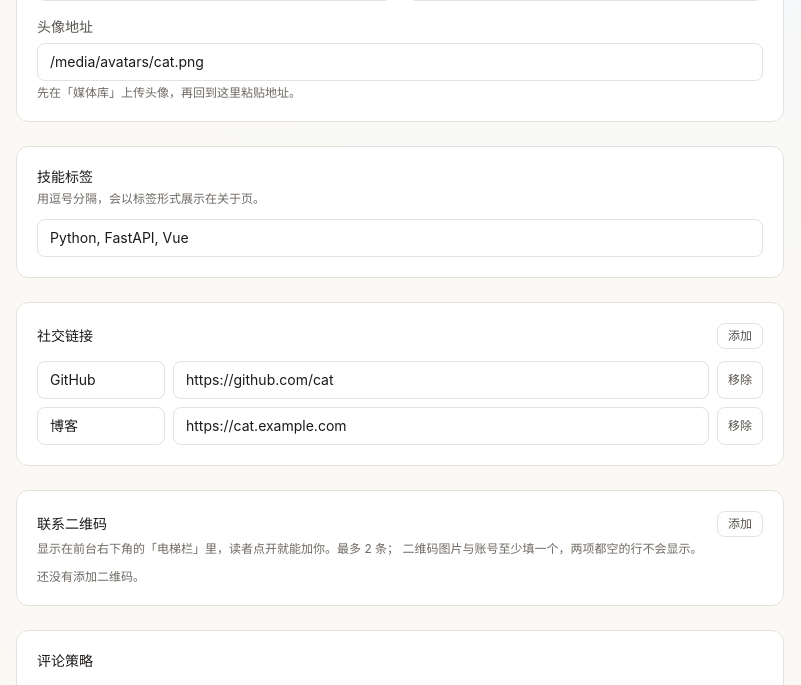
Test: SettingsView · 社交链接增删 › 删光后回到空态文案，重新添加又能出现输入行
The image size is (801, 685).
(page scrolled)
Step 1. Click the 1st button "移除" → (740, 380), box [717,361,763,399]
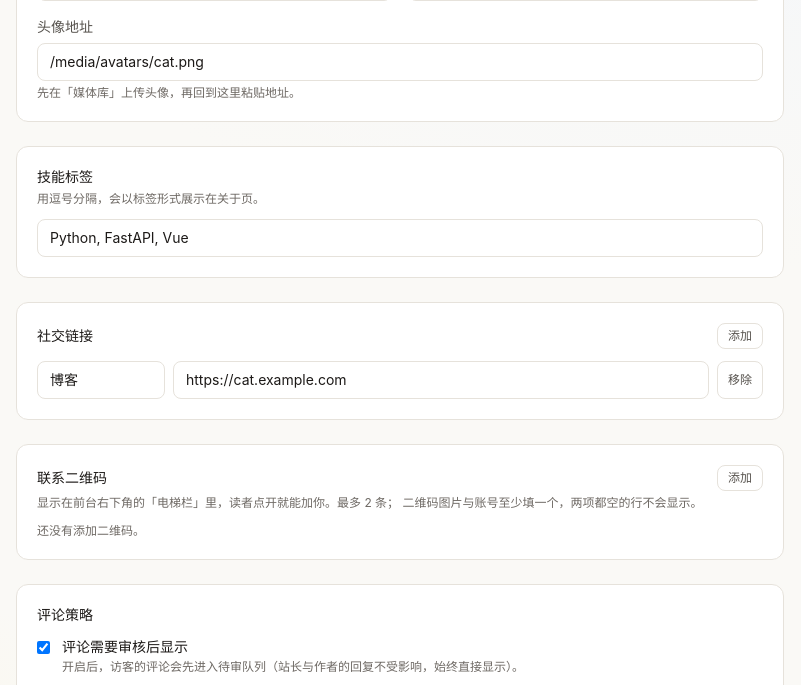
Step 2. Click the button "移除" → (740, 380), box [717,361,763,399]
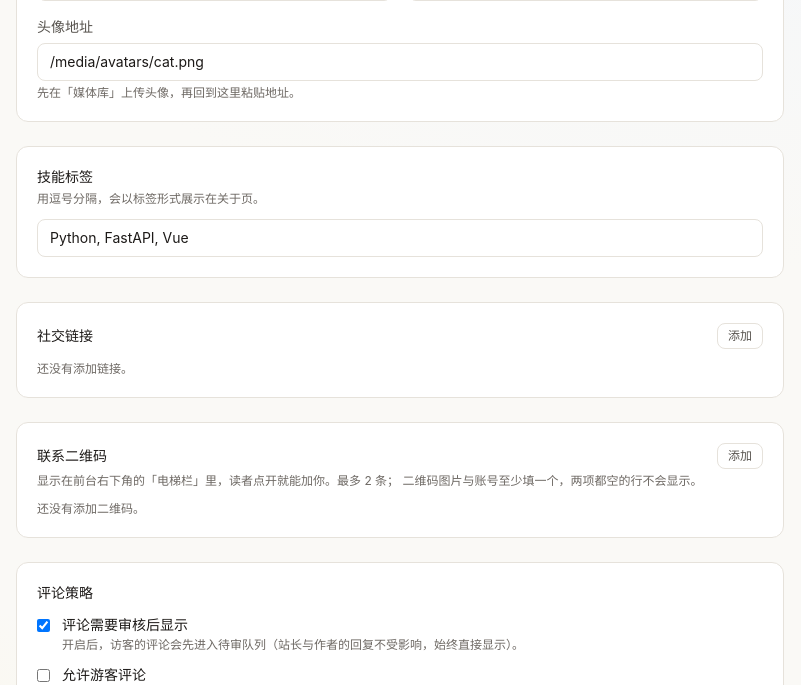
Expected: the element showing "社交链接 添加 还没有添加链接。" is shown, [16,302,784,398]
Step 3. Click the button "添加" in the row of "社交链接" → (740, 336), box [717,323,763,349]
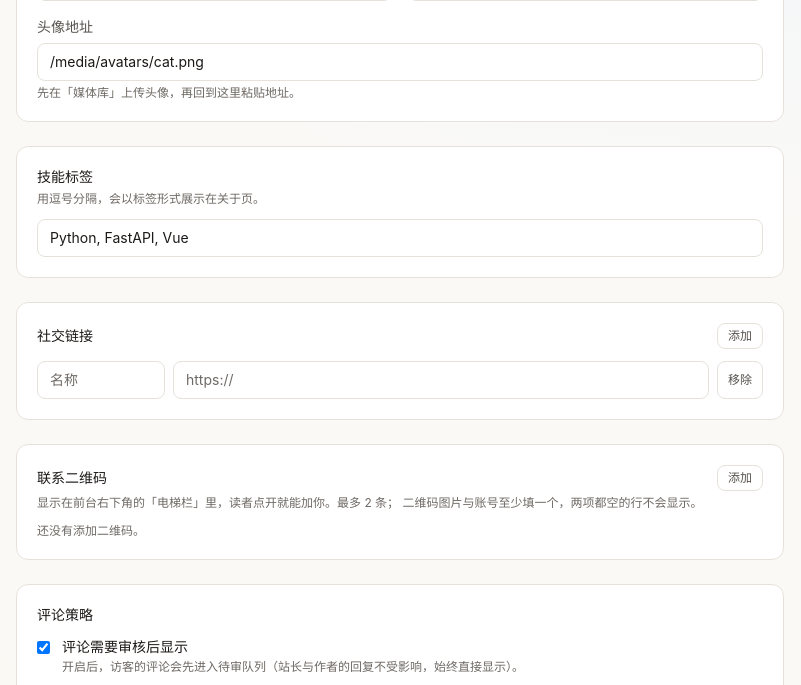
Expected: the text "还没有添加链接。" is gone
